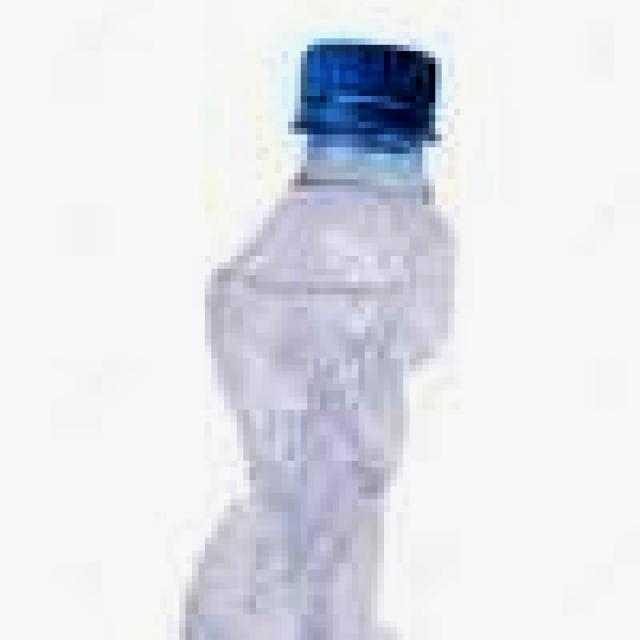bottle: (163, 31, 459, 640)
cap: (288, 33, 452, 152)
